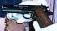gun: (1, 1, 57, 31)
